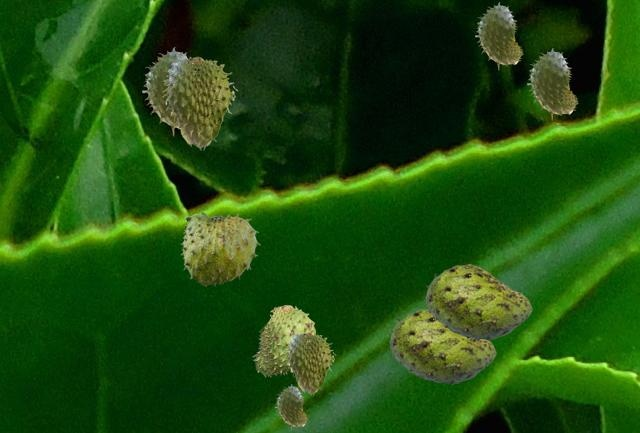guyabano: (425, 264, 531, 339), (389, 309, 495, 383), (162, 56, 237, 149), (180, 210, 259, 285), (252, 305, 315, 376), (142, 47, 186, 135), (527, 48, 577, 119), (475, 2, 522, 69), (285, 332, 335, 394), (275, 384, 307, 429)
